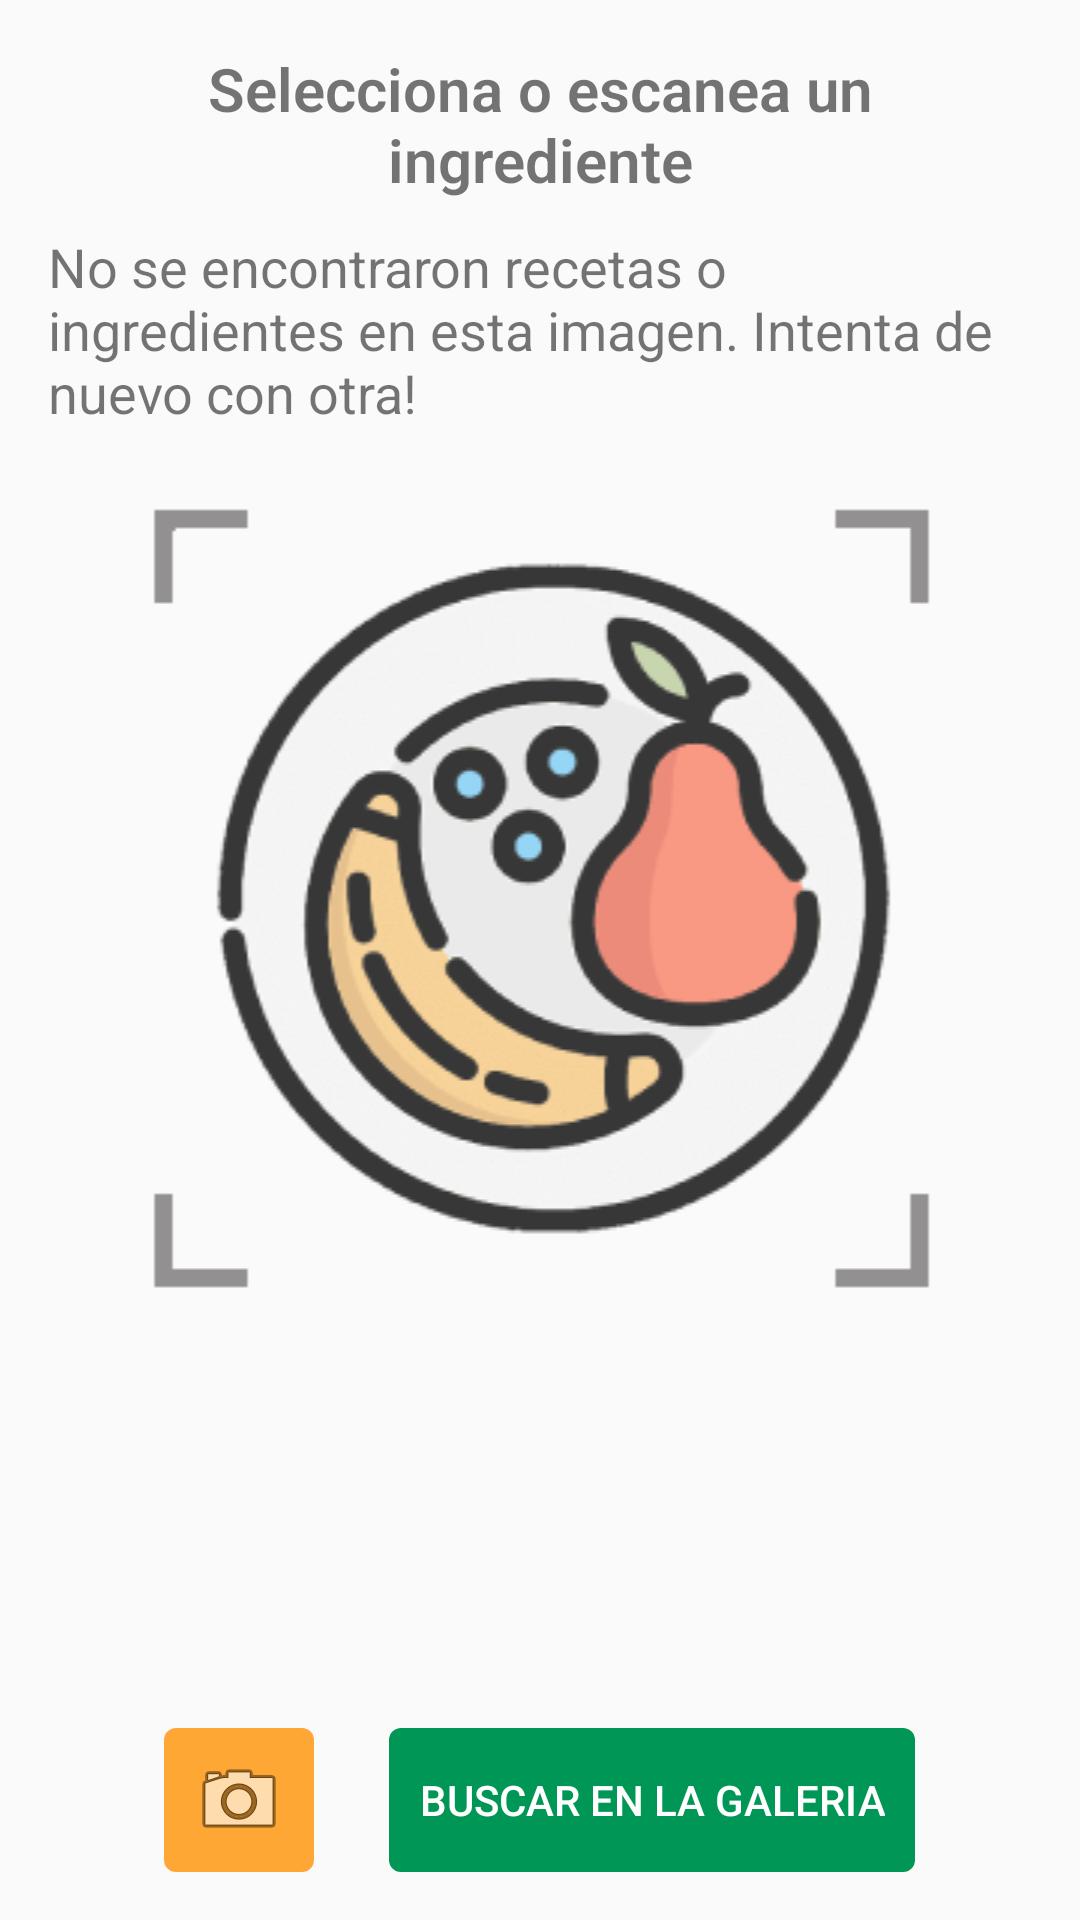

Where to tap for icons on this 1080x1920 app screen, as (x=x, y=y):
camera: (x=239, y=1800)
